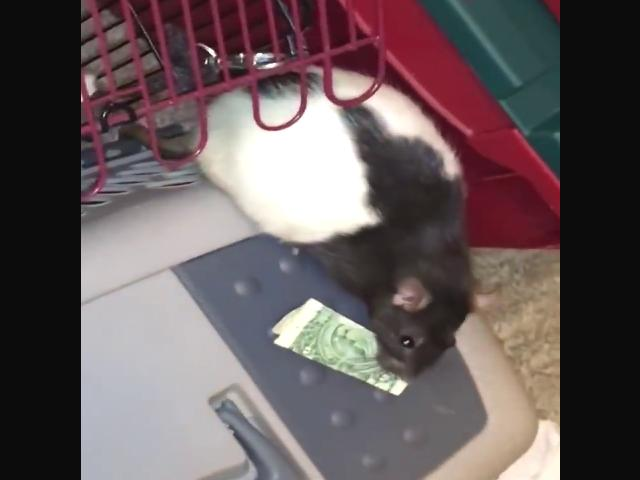Tikus: (194, 66, 484, 384)
